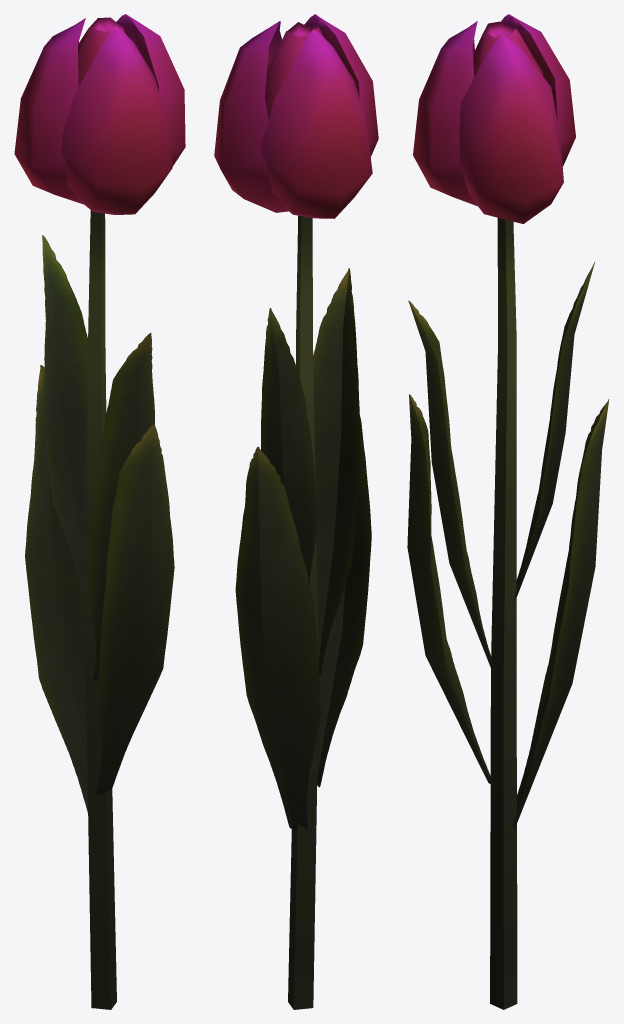
The model's file is Flower_A02.fbx.
3 views of the same model, side by side, from view 1: azimuth 30°, elevation 25°; view 2: azimuth 150°, elevation 25°; view 3: azimuth 270°, elevation 25° (orthographic).
Parts seen in each view (by area): view 1: Flower_A02; view 2: Flower_A02; view 3: Flower_A02.
Boxes of the visible parts, box(x1,y1,x2,y2) form: Flower_A02: box(14, 14, 185, 1009); Flower_A02: box(214, 14, 378, 1009); Flower_A02: box(407, 14, 609, 1009).
Size of the model in its own units: 5.97 by 38.26 by 7.15.
